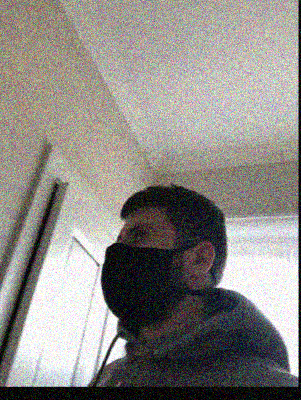with_mask: (100, 217, 178, 324)
